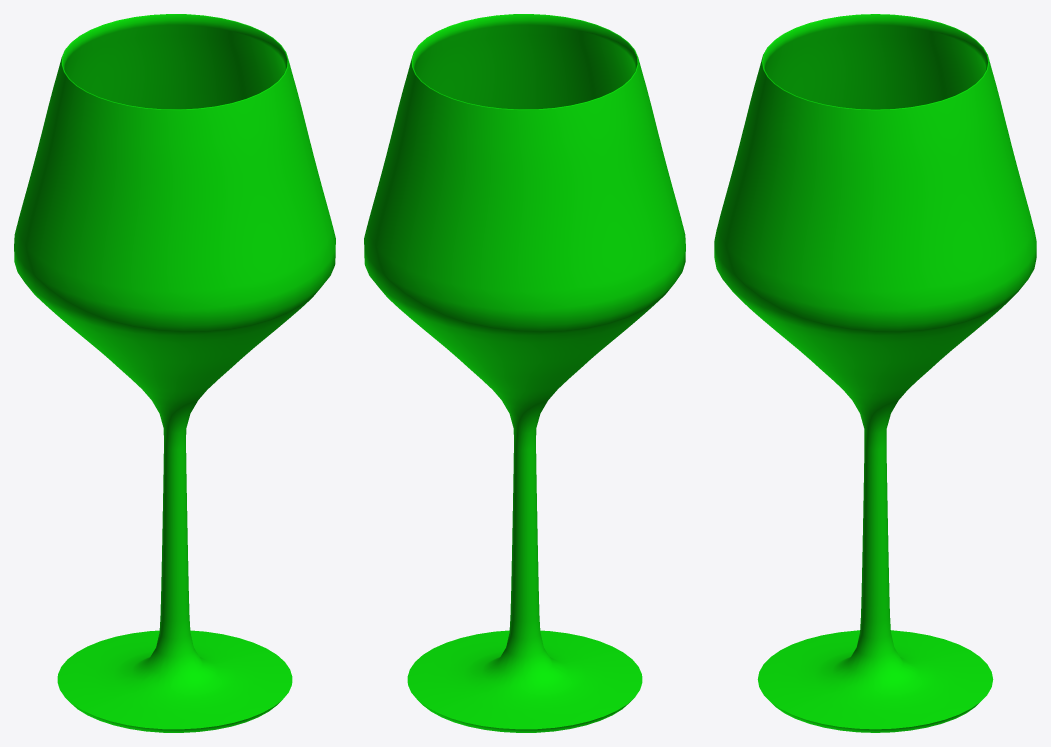
The model's file is Glass7_LOD_0.fbx.
3 views of the same model, side by side, from view 1: azimuth 30°, elevation 25°; view 2: azimuth 150°, elevation 25°; view 3: azimuth 270°, elevation 25° (orthographic).
Parts seen in each view (by area): view 1: Glass7_LOD_0; view 2: Glass7_LOD_0; view 3: Glass7_LOD_0.
Boxes of the visible parts, left/top/right/bottom form: Glass7_LOD_0: left=14, top=14, right=335, bottom=732; Glass7_LOD_0: left=364, top=14, right=685, bottom=732; Glass7_LOD_0: left=714, top=14, right=1036, bottom=732.
Size of the model in its own units: 2.37 by 5.08 by 2.37.
